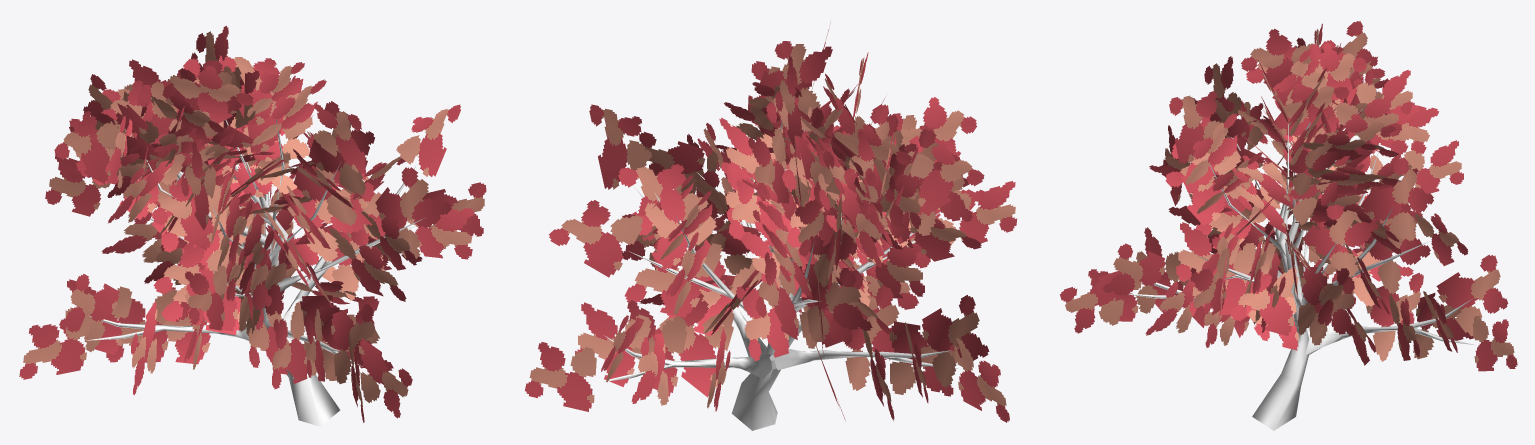
File: asd.obj
3 views of the same model, side by side, from view 1: azimuth 30°, elevation 25°; view 2: azimuth 150°, elevation 25°; view 3: azimuth 270°, elevation 25° (orthographic). The views are drawn at different scales.
Visible parts, largest first — view 1: leaf, object 1; view 2: leaf, object 1; view 3: leaf, object 1.
Boxes of the visible parts, box(x1,y1,x2,y2) form: leaf: box(19, 25, 486, 422); object 1: box(86, 101, 426, 426); leaf: box(525, 23, 1017, 422); object 1: box(594, 116, 957, 430); leaf: box(1060, 21, 1517, 371); object 1: box(1128, 109, 1475, 430).
Bounding box in the file's own units: 774 × 679 × 793.
Materials: 2 (1 with a texture image).
